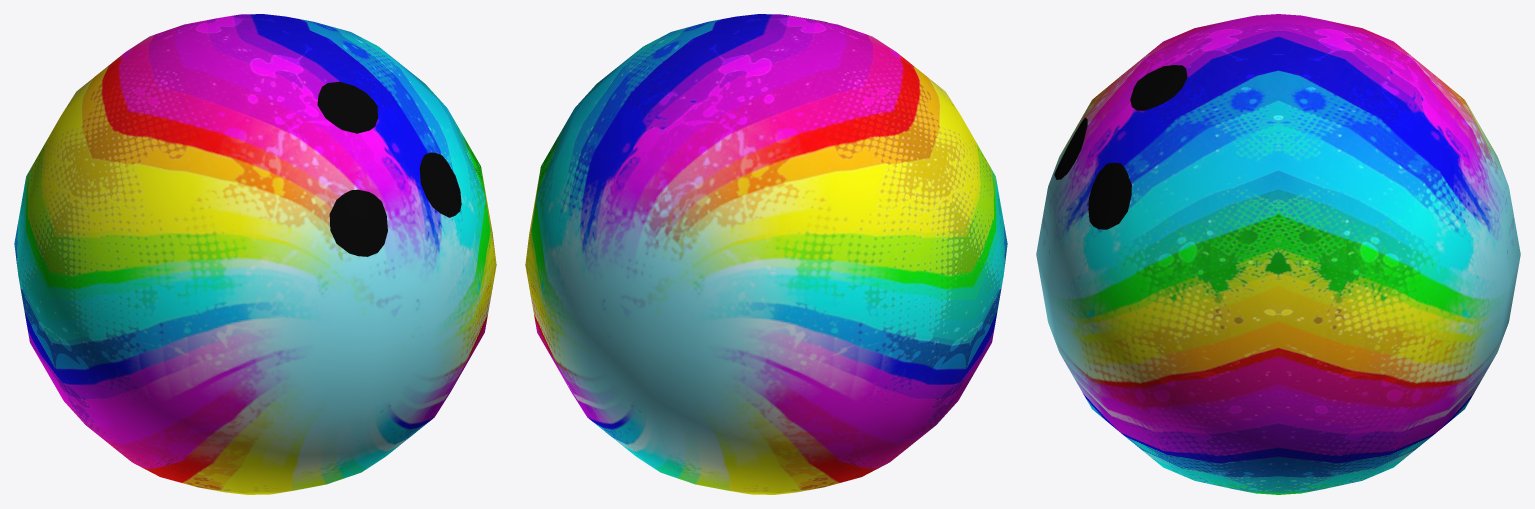
The model's file is qiu_14.FBX.
3 views of the same model, side by side, from view 1: azimuth 30°, elevation 25°; view 2: azimuth 150°, elevation 25°; view 3: azimuth 270°, elevation 25° (orthographic).
Parts seen in each view (by area): view 1: qiu_14; view 2: qiu_14; view 3: qiu_14.
Boxes of the visible parts, x1,y1,x2,y2 form: qiu_14: (14, 14, 496, 494); qiu_14: (525, 14, 1007, 494); qiu_14: (1036, 14, 1520, 494).
Bounding box in the file's own units: 592 × 592 × 592.
